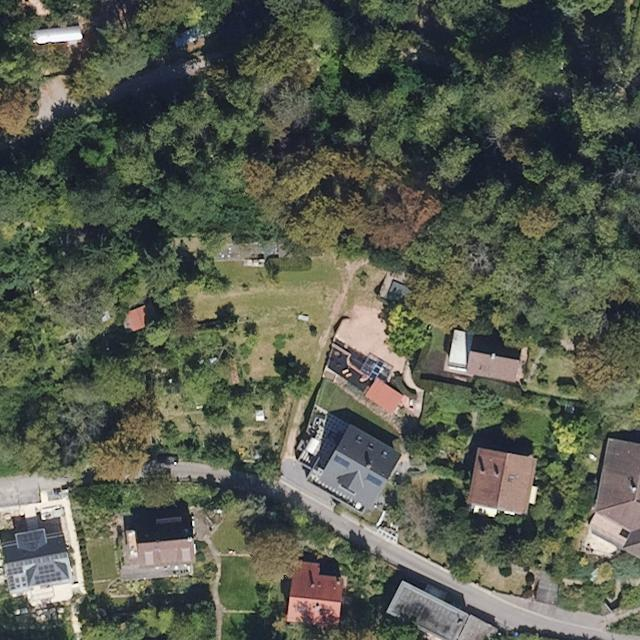PV: (5, 552, 68, 590), (34, 564, 62, 585)
